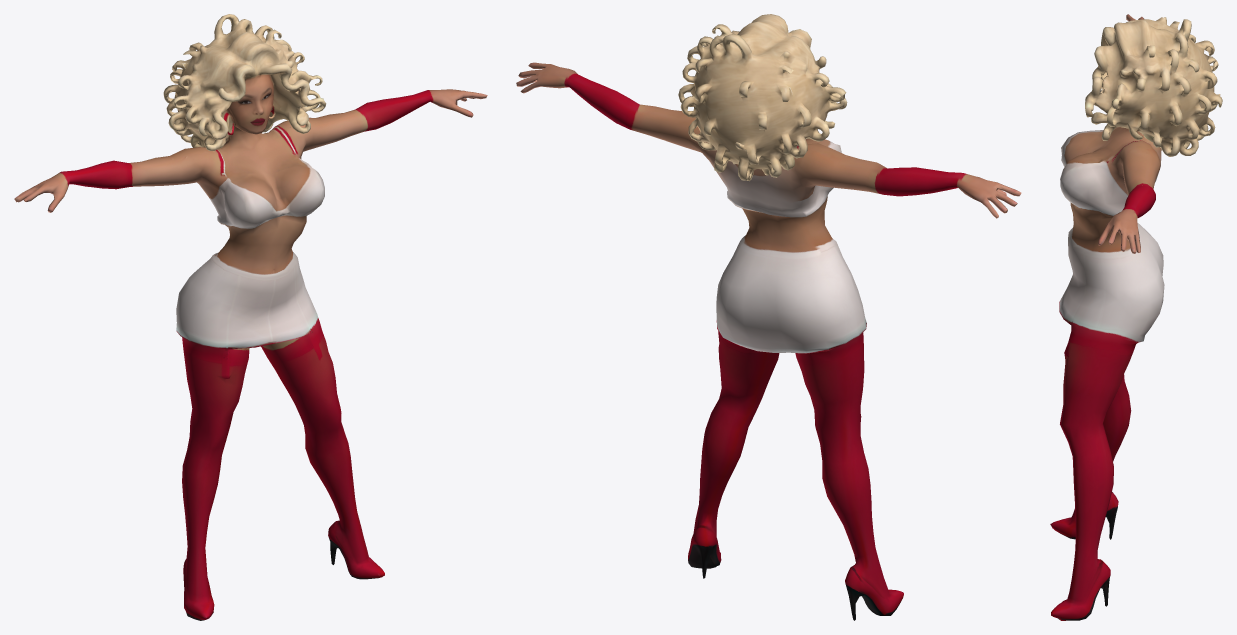
Rendered from red lingerie character 3d model.glb.
3 views of the same model, side by side, from view 1: azimuth 30°, elevation 25°; view 2: azimuth 150°, elevation 25°; view 3: azimuth 270°, elevation 25° (orthographic). The views are drawn at different scales.
Visible parts, largest first — view 1: f365e1b4_08cf_4bc0_a79f_9e3a27ae04c3; view 2: f365e1b4_08cf_4bc0_a79f_9e3a27ae04c3; view 3: f365e1b4_08cf_4bc0_a79f_9e3a27ae04c3.
Part boxes in pixels (bbox=[...]): f365e1b4_08cf_4bc0_a79f_9e3a27ae04c3: bbox=[14, 14, 487, 620]; f365e1b4_08cf_4bc0_a79f_9e3a27ae04c3: bbox=[516, 14, 1021, 620]; f365e1b4_08cf_4bc0_a79f_9e3a27ae04c3: bbox=[1050, 14, 1222, 620].
Size of the model in its own units: 0.8892 by 0.9995 by 0.2808.
Materials: 1 (1 with a texture image).
